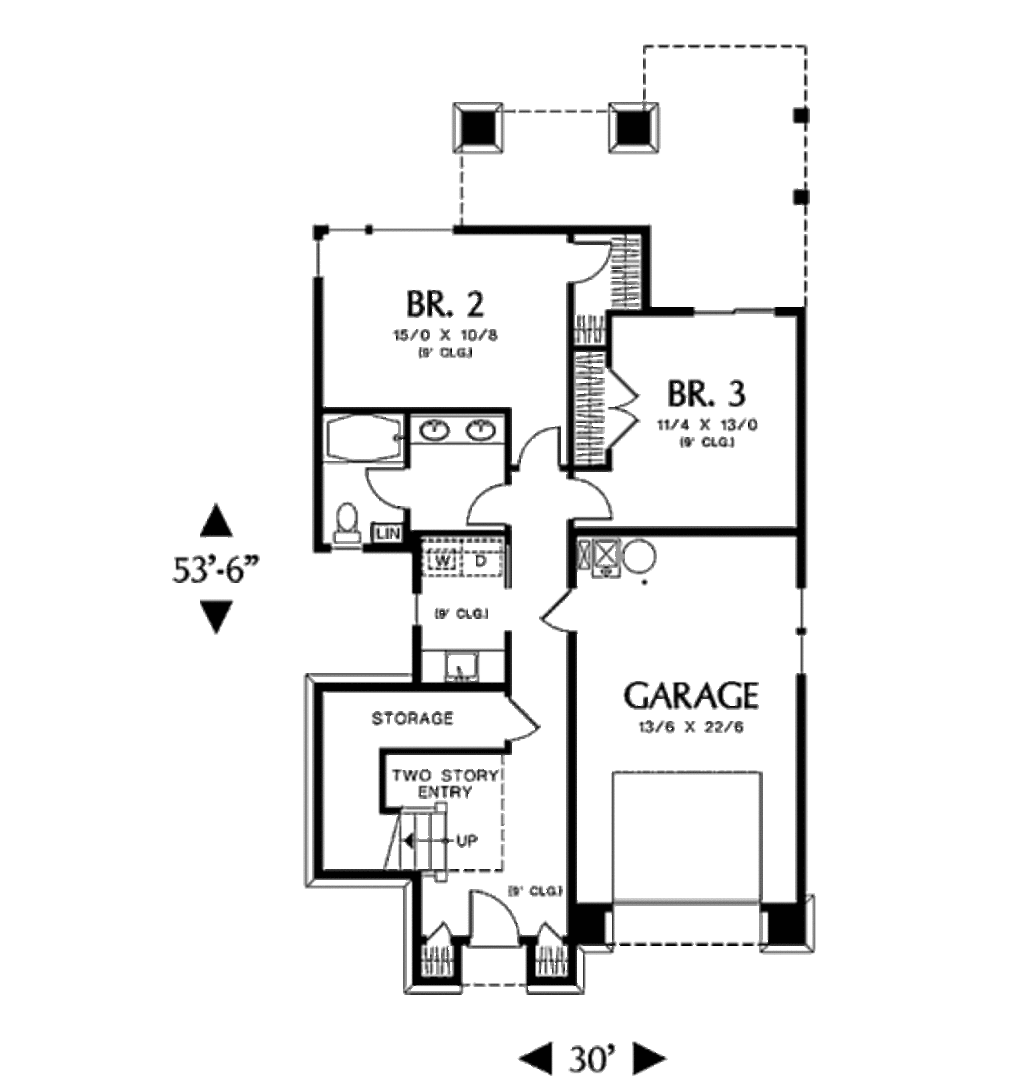door: (459, 883, 528, 954), (601, 367, 640, 452), (565, 468, 612, 523), (512, 423, 564, 468), (363, 463, 409, 513), (498, 693, 540, 746), (465, 479, 509, 529), (567, 238, 609, 285), (536, 590, 575, 635)
large_sink: (325, 493, 362, 546)
small_sink: (405, 410, 504, 451)
stairs: (390, 807, 480, 875), (603, 367, 644, 456)
tub: (312, 410, 403, 465)
windows: (682, 304, 785, 323), (792, 583, 812, 677)
